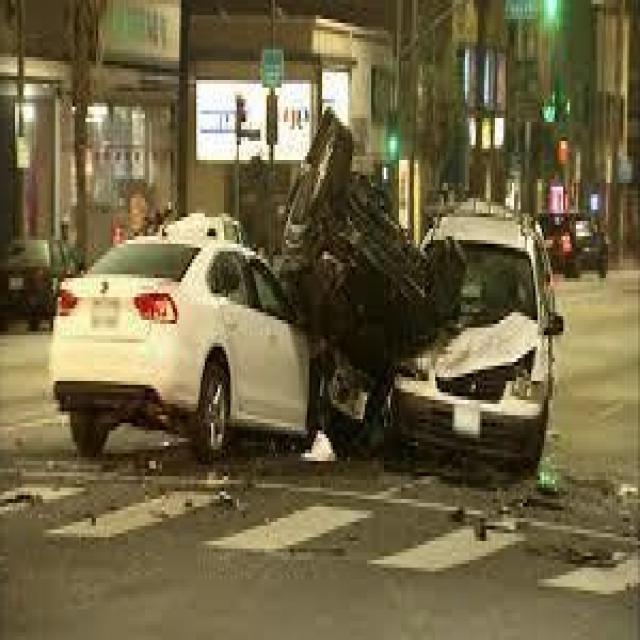multiple_accident: (107, 130, 483, 484)
